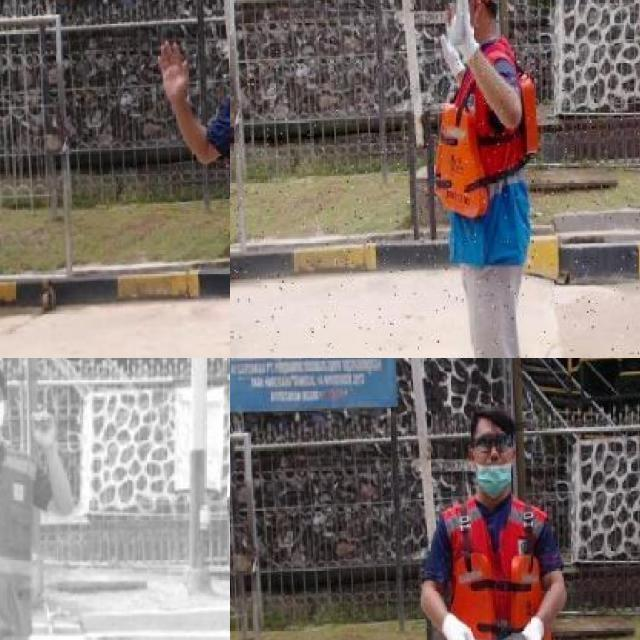apron: (442, 0, 478, 63), (432, 19, 465, 74), (443, 616, 474, 640), (520, 616, 544, 640)
